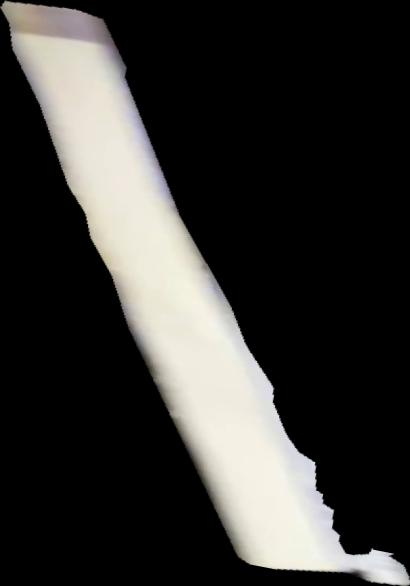backward: (1, 1, 410, 586)
